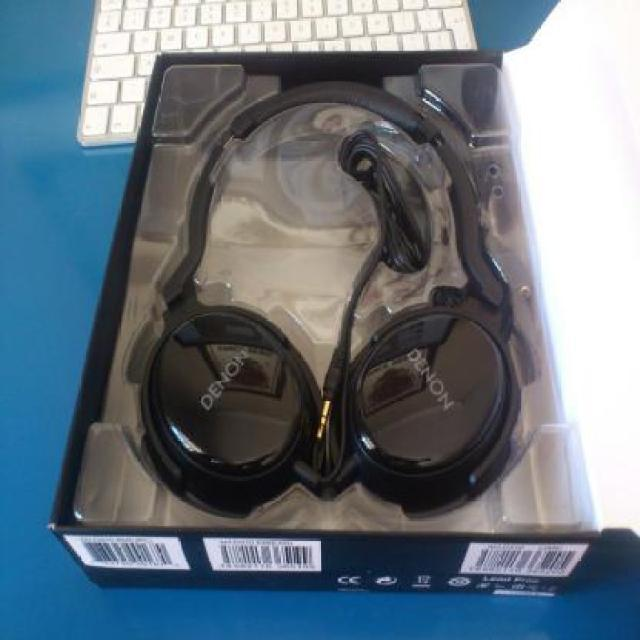earphone: (138, 72, 498, 524)
